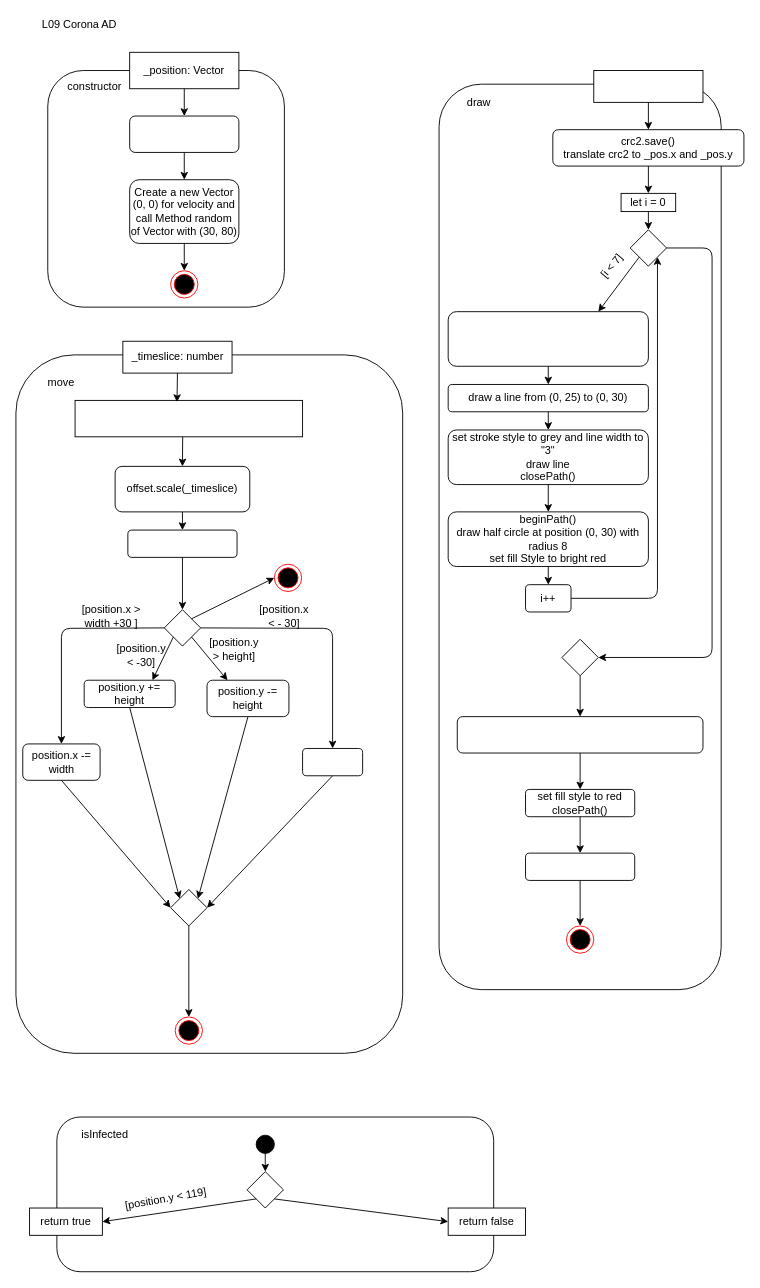
Some shapes in this 760 by 1288 pixel diagram are drawn without their labels. The box of each missing label's shape, as (x1, y1, x2, y2) in pixels:
_pos: Vector: (593, 70, 703, 102)
add offset to position: (127, 529, 237, 557)
beginPath() draw circle with position (0, 0) and radius 25: (456, 716, 703, 753)
beginPath() Rotate coordinate system by 45 degrees: (447, 311, 648, 366)
offset: Vector = (this.velocity.x, this.velocity.y): (74, 399, 303, 437)
positon.x += width: (302, 748, 363, 776)
restore coordinate system: (525, 852, 635, 880)
set position of this to _position: (129, 115, 239, 152)
